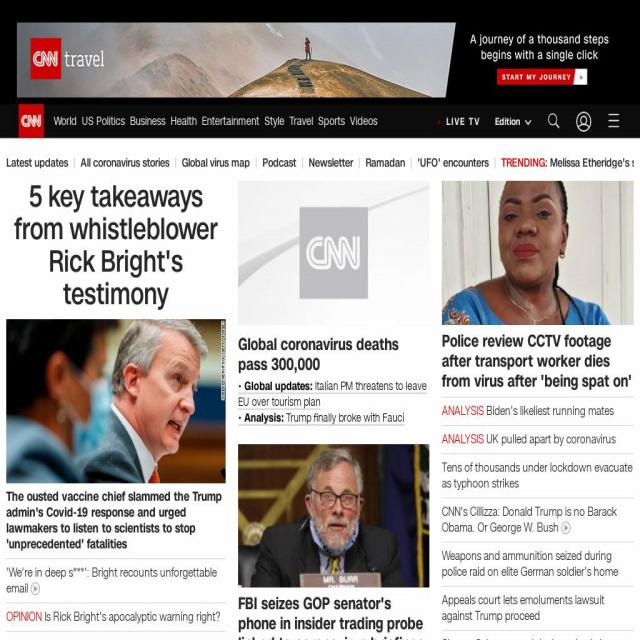navigation-blocks: (9, 175, 636, 640)
navigation-links: (8, 148, 634, 169)
options: (496, 114, 533, 130), (604, 110, 626, 132)
search: (542, 104, 570, 132)
